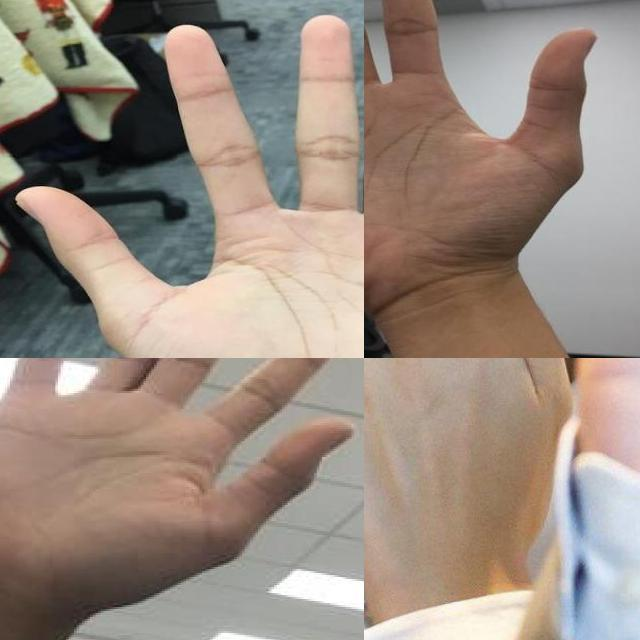hand: (12, 14, 364, 358), (0, 358, 359, 605), (364, 0, 596, 288), (364, 358, 573, 640)
